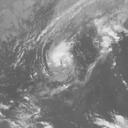cyclone: (41, 41, 82, 80)
